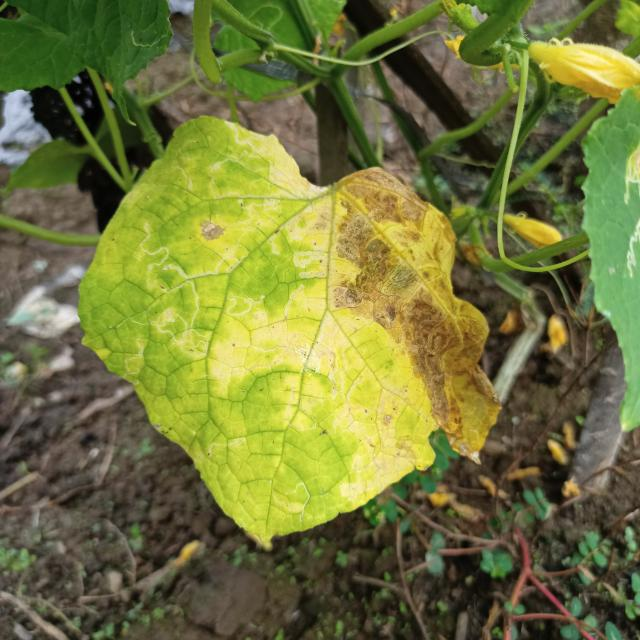disease_cucumber: (74, 118, 499, 546)
